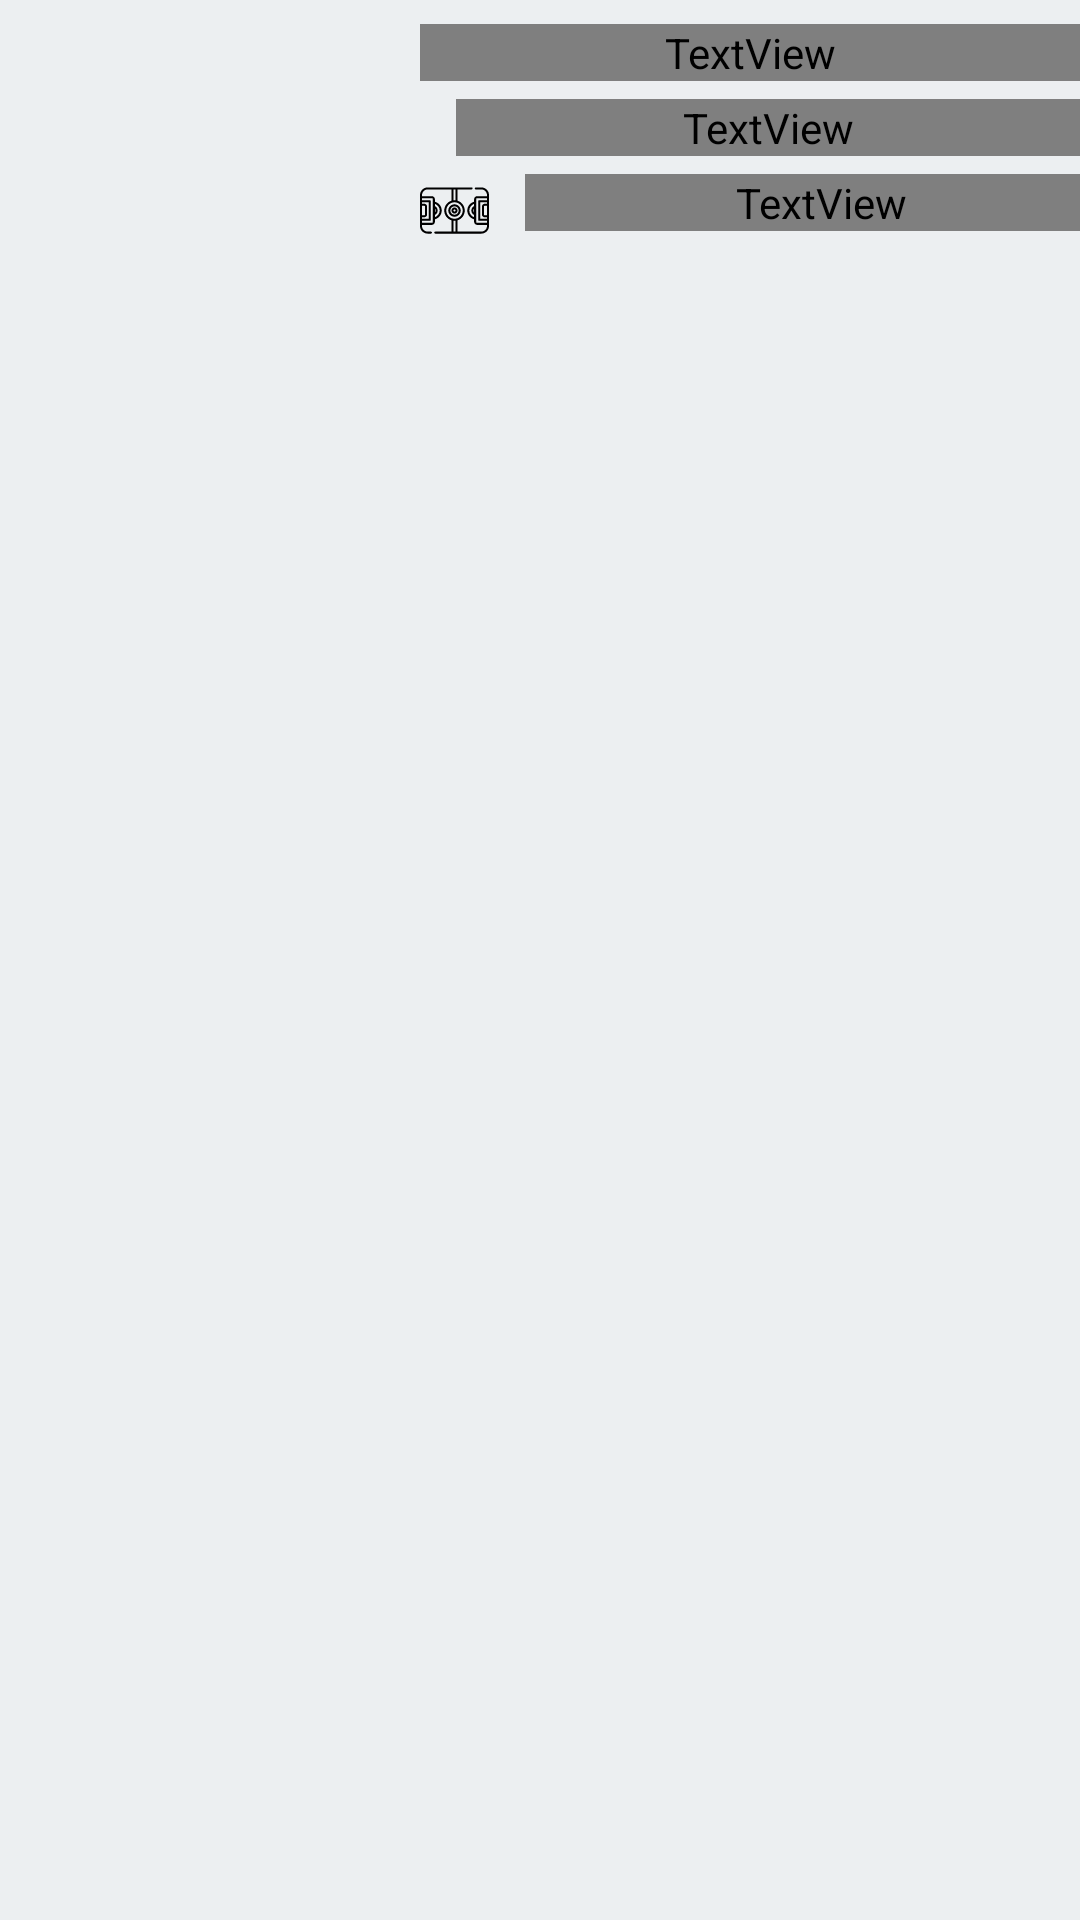

Icon bounding boxes for this 1080px×1920px phone screenshot, format Rect(x1, y1, x2, y2):
soccer: Rect(420, 187, 489, 234)
